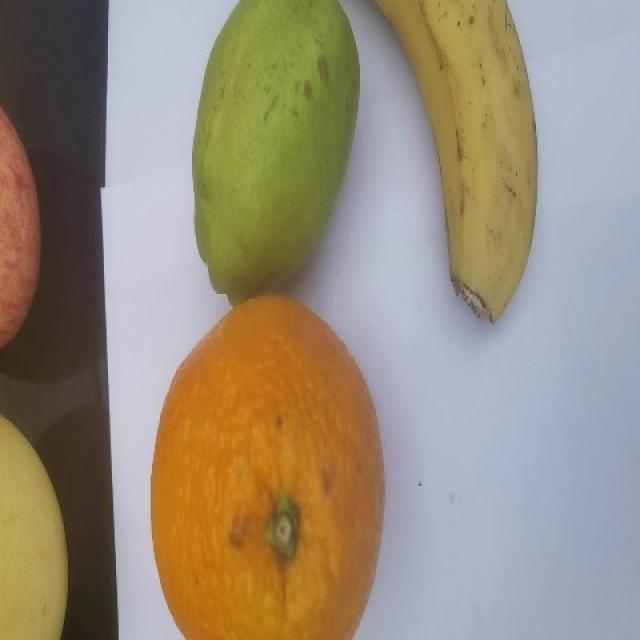Apple: (0, 105, 41, 351)
Banana: (372, 0, 538, 325)
Orange: (149, 293, 385, 639)
